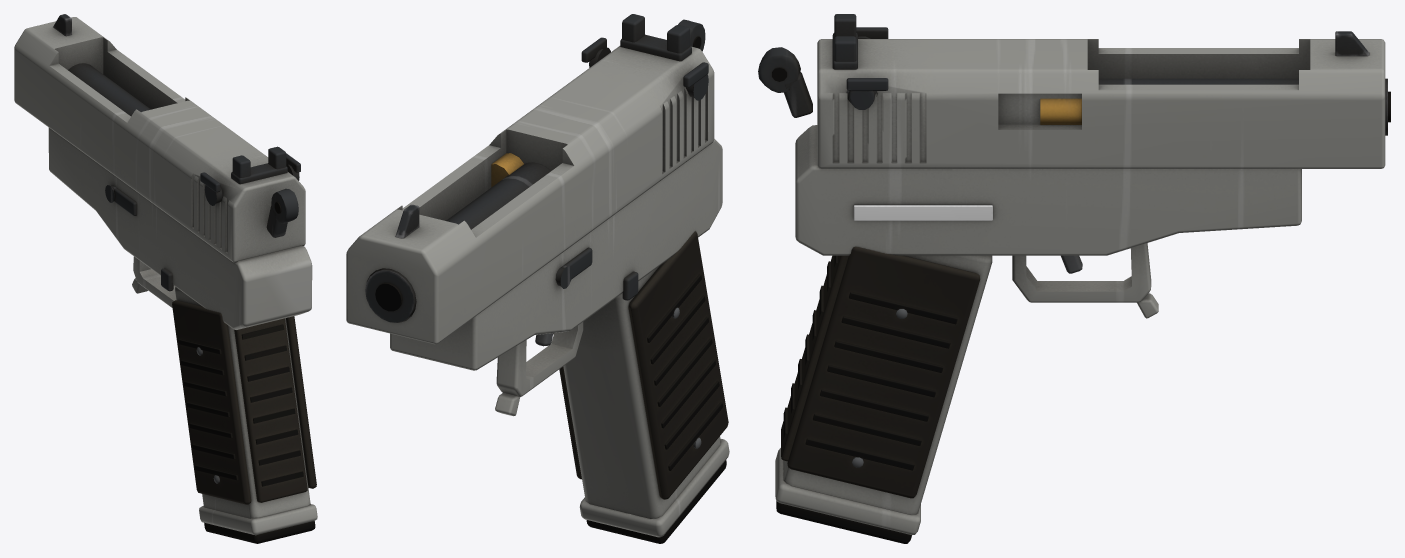
The model's file is weapon_dual.gltf.
3 renders of one model, left to right at view 1: azimuth 30°, elevation 25°; view 2: azimuth 150°, elevation 25°; view 3: azimuth 270°, elevation 25°, orthographic. The views are drawn at different scales.
Parts seen in each view (by area): view 1: Body, Slide, Mag; view 2: Body, Slide, Mag; view 3: Body, Slide, Mag.
Part boxes in pixels (x1,y1,x2,y2): Body: [48, 63, 317, 535]; Slide: [14, 14, 305, 262]; Mag: [204, 521, 315, 543]; Body: [365, 19, 729, 537]; Slide: [346, 14, 714, 344]; Mag: [586, 460, 726, 543]; Body: [758, 47, 1390, 535]; Slide: [817, 14, 1385, 168]; Mag: [776, 501, 911, 543].
Size of the model in its own units: 0.0458 by 0.1978 by 0.2273.
7 materials, 7 textured.
